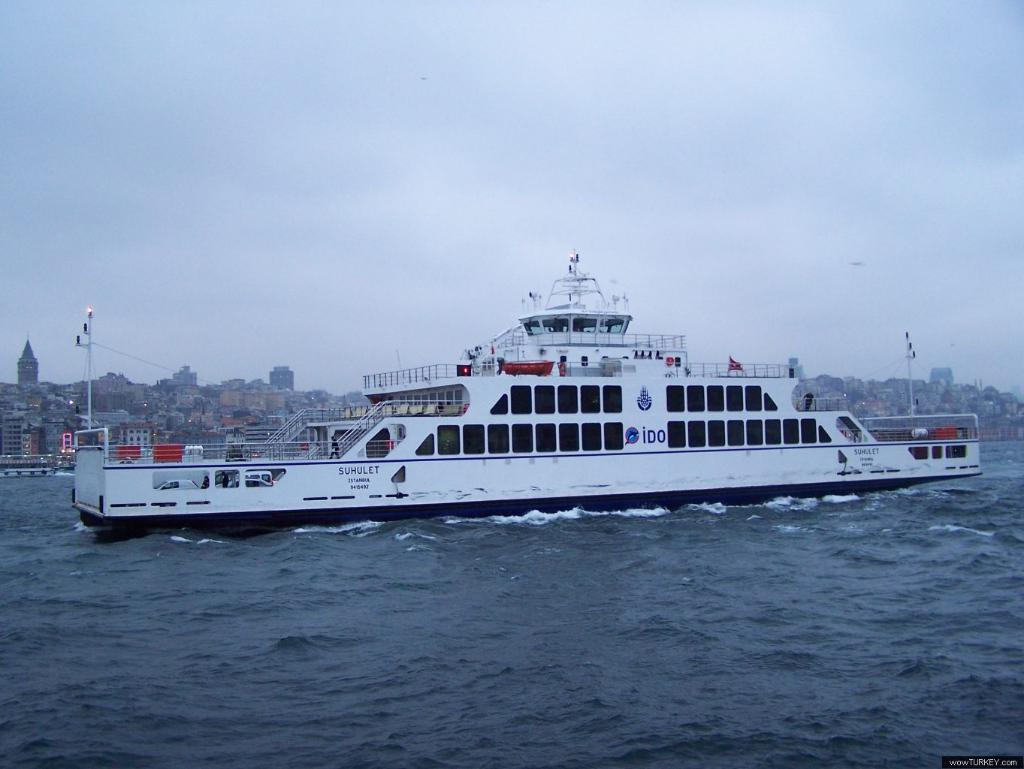PassengerShip: (64, 229, 994, 539)
